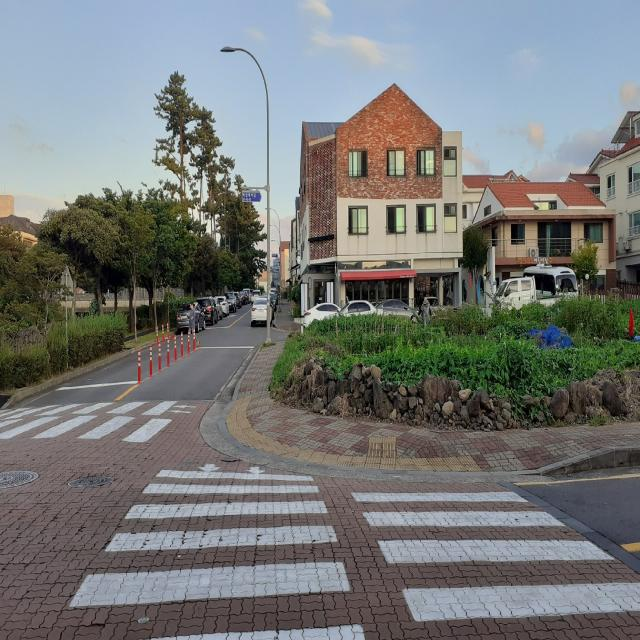횡단보도: (66, 456, 639, 640), (0, 378, 197, 444)
